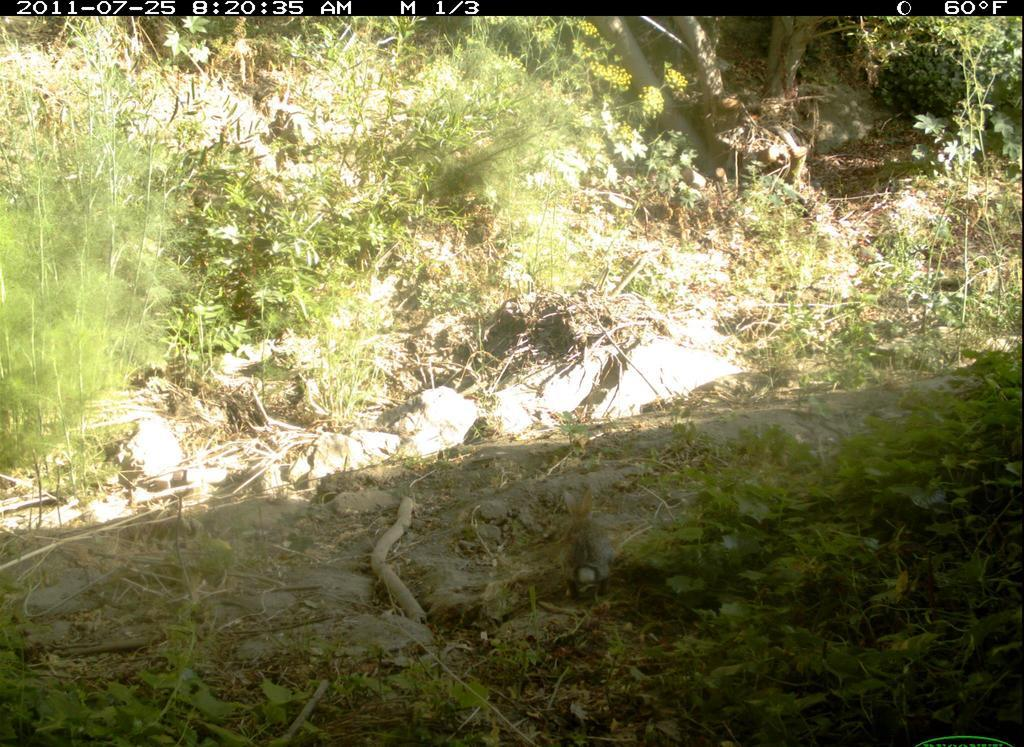rabbit: (553, 486, 623, 603)
